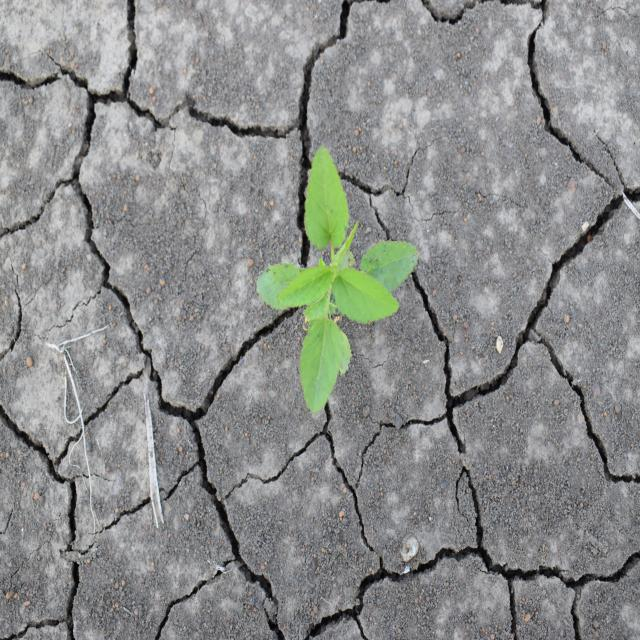PricklySida: (255, 143, 422, 417)
